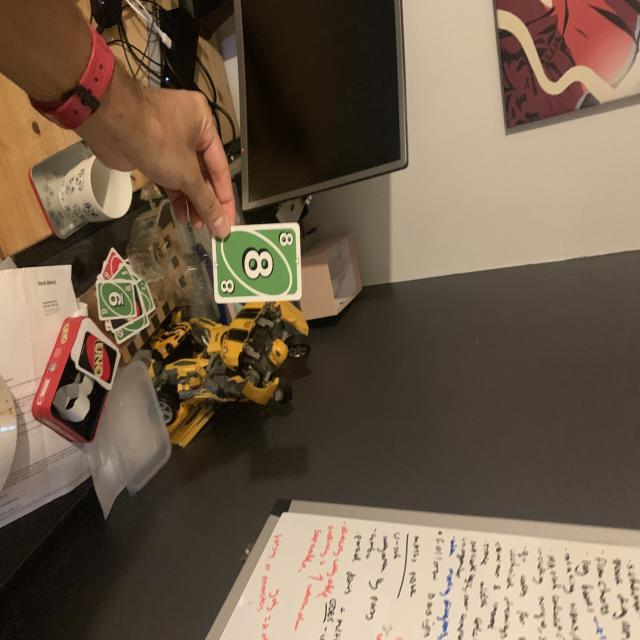lgreen-8: (276, 229, 294, 250)
